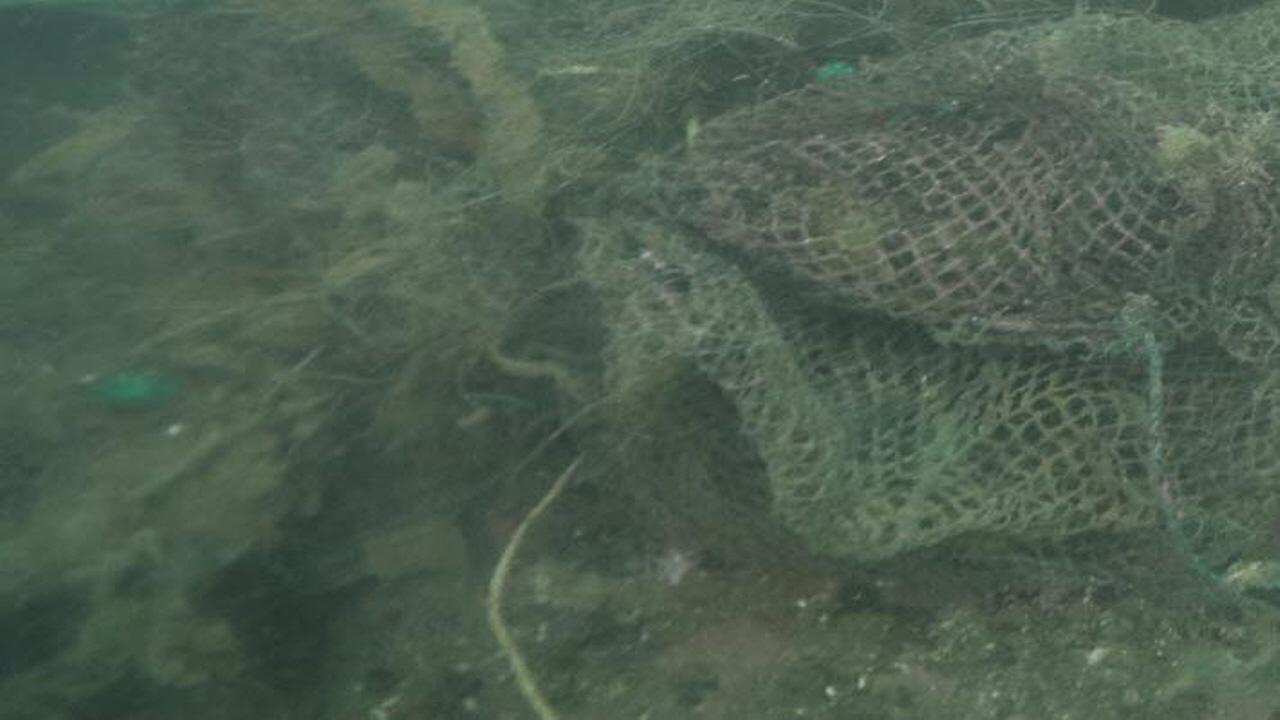fish net: (575, 19, 1280, 579)
